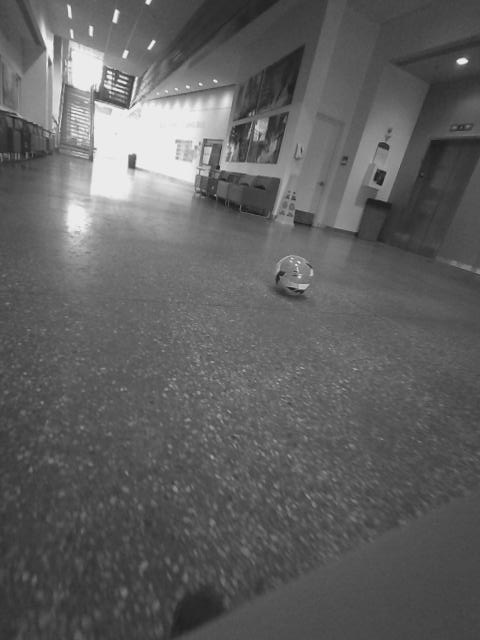ball: (271, 252, 315, 297)
